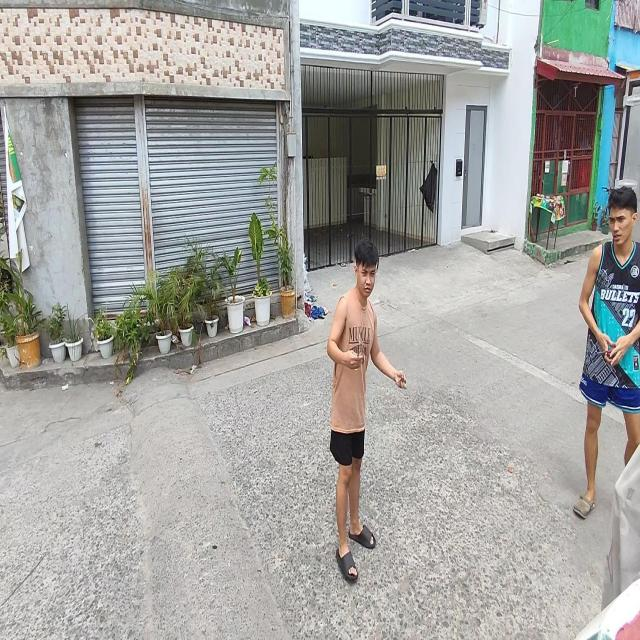scissor: (598, 348, 614, 361)
